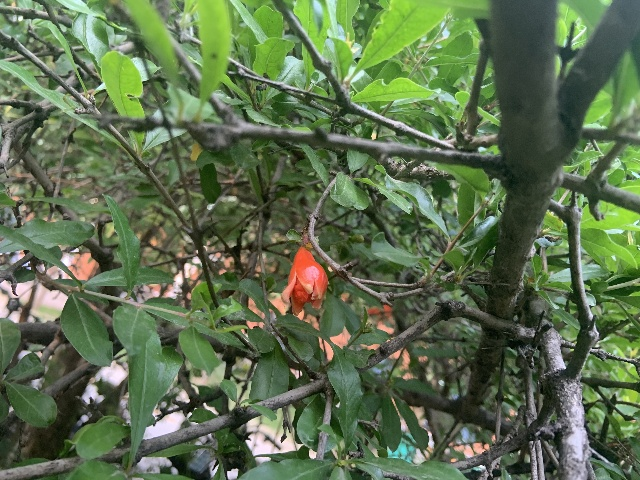flower: (281, 245, 328, 320)
